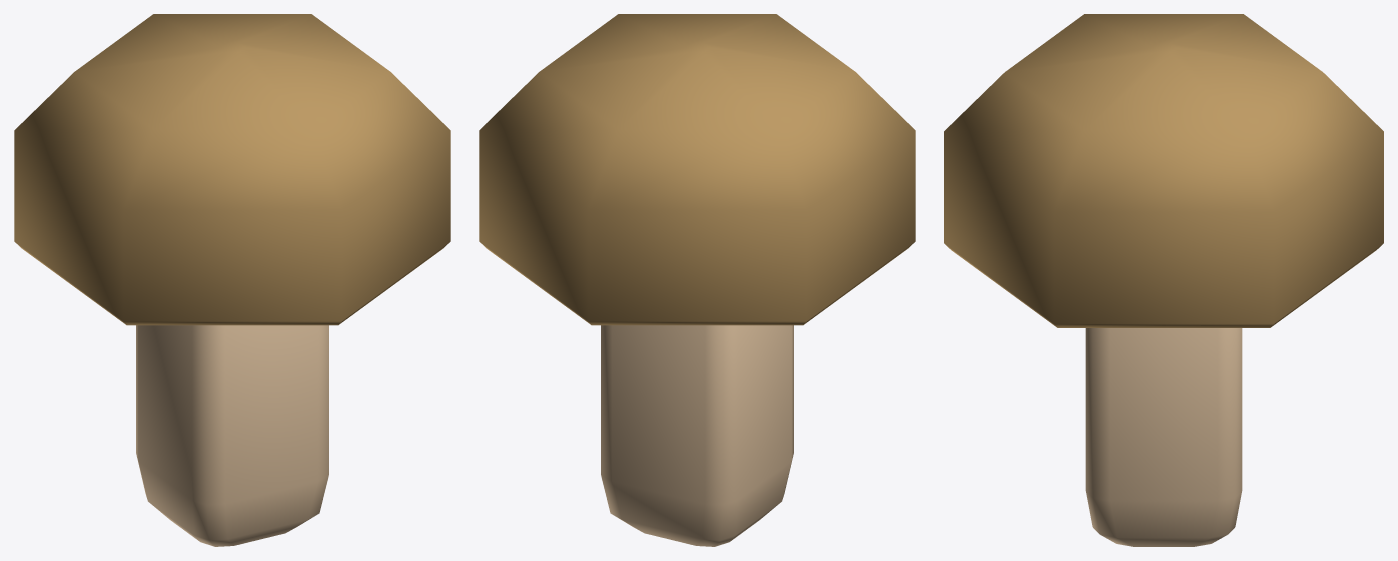
File: Normal Mushroom.fbx
The picture shows the model from 3 angles, left to right: view 1: azimuth 30°, elevation 25°; view 2: azimuth 150°, elevation 25°; view 3: azimuth 270°, elevation 25°; orthographic projection.
Visible parts, largest first — view 1: Top; view 2: Top; view 3: Top.
Part boxes in pixels (box(x1,y1,x2,y2)): Top: box(14, 14, 450, 546); Top: box(479, 14, 915, 546); Top: box(944, 14, 1383, 546).
Size of the model in its own units: 73.29 by 101 by 84.63.
